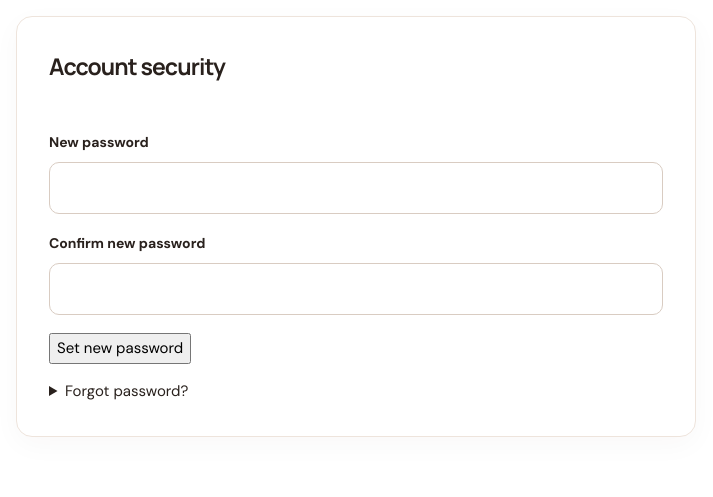
platform completion › consumes reset links from the fragment, strips them from the URL and never stores the token
The width and height of the screenshot is (713, 497).
Type "Replacement-password-2026!" into the password field labelled "New password".
click(356, 188); type("Replacement-password-2026!")  # box [49,162,663,214]
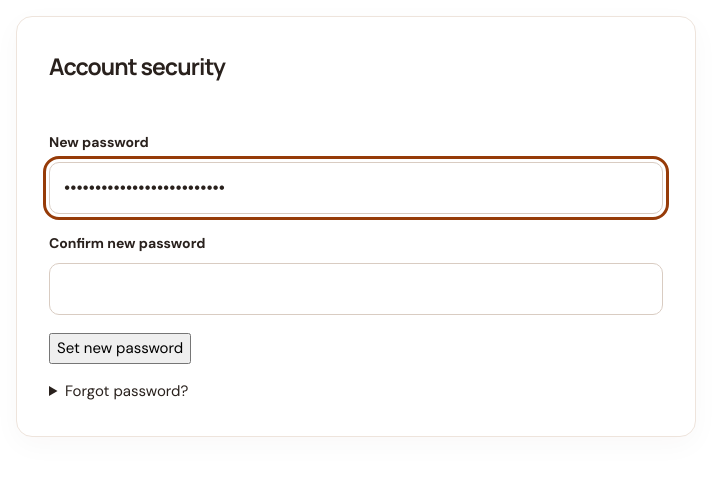
Type "Different-password-2026!" into the password field labelled "Confirm new password".
click(356, 289); type("Different-password-2026!")  # box [49,263,663,316]
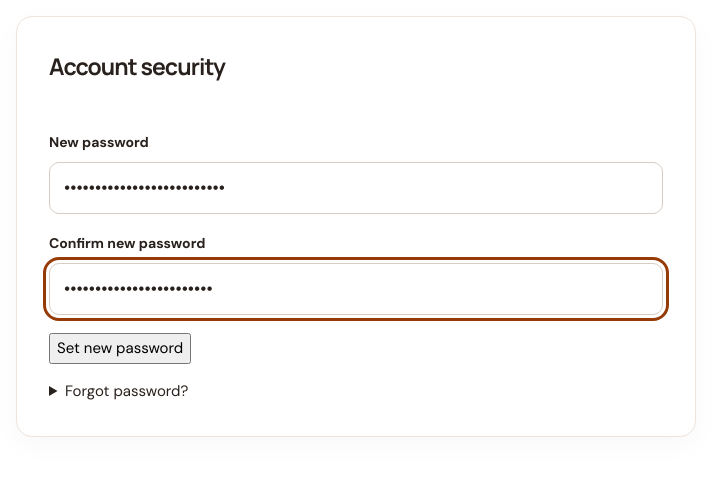
Click the button "Set new password".
click(120, 349)  # box [49,334,191,364]
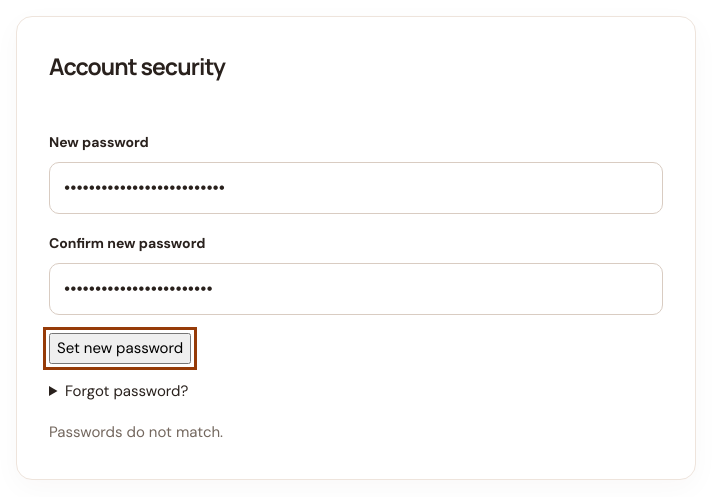
expect the text "Passwords do not match." is shown: met, box [49,422,223,442]
Type "Replacement-password-2026!" into the password field labelled "Confirm new password".
click(356, 289); type("Replacement-password-2026!")  # box [49,263,663,316]
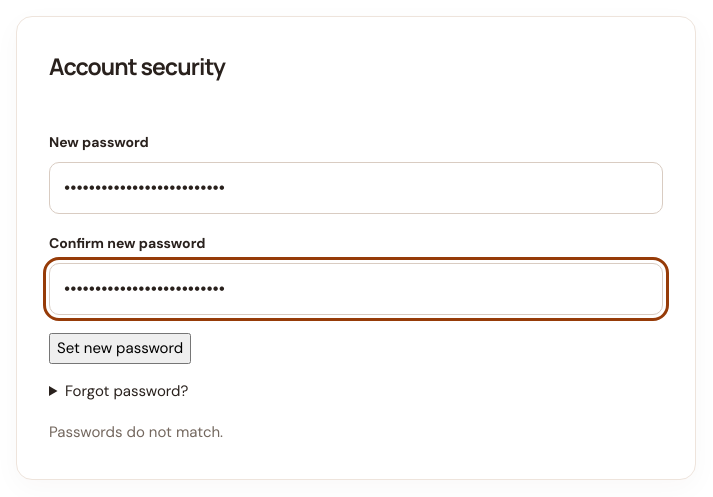
Click the button "Set new password".
click(120, 349)  # box [49,334,191,364]
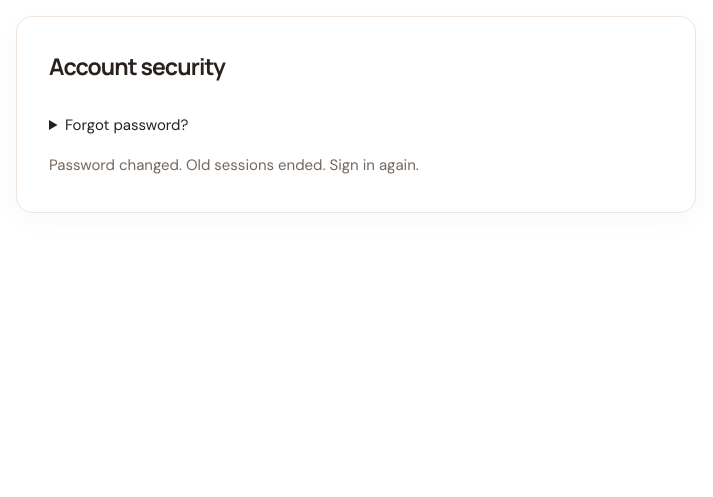
expect the text "Password changed. Old sessions ended. Sign in again." is shown: met, box [49,155,419,175]
